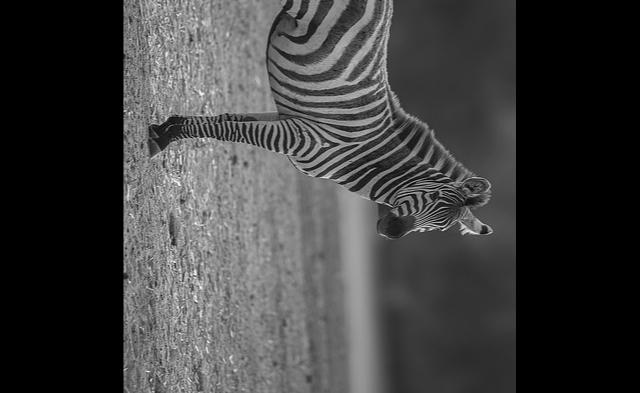Non_Gorille: (135, 0, 505, 291)
